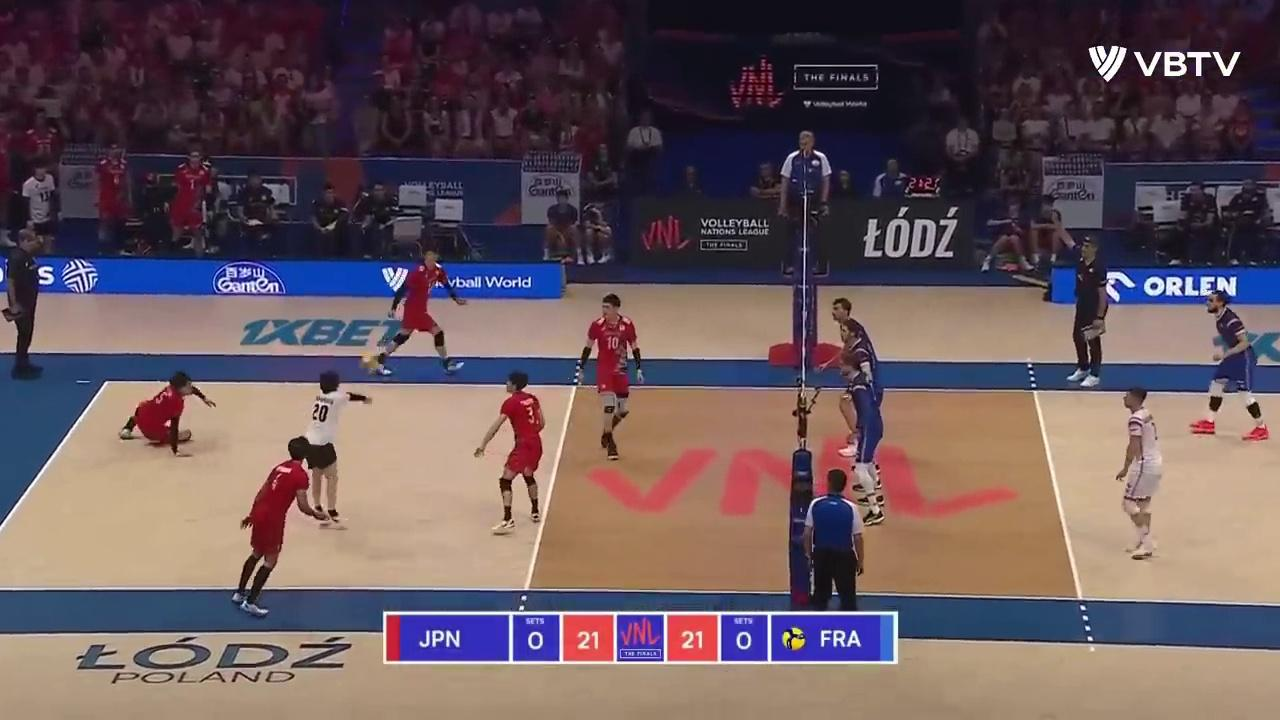ball: (364, 352, 381, 373)
